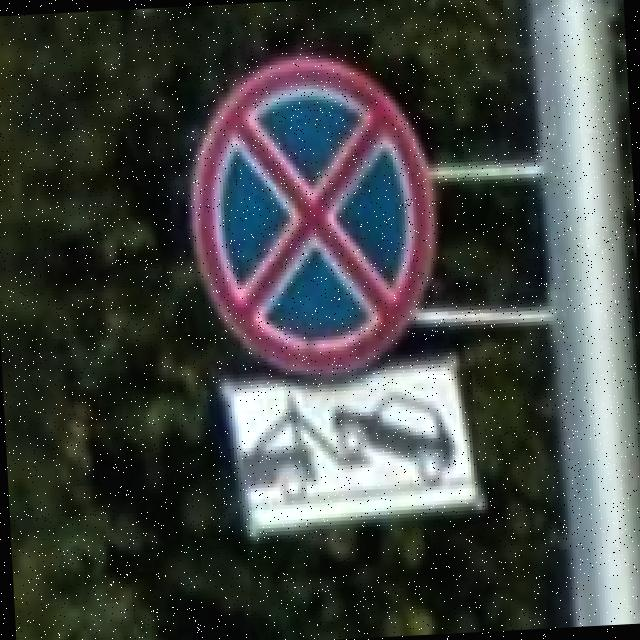Zakaz zatrzymywania sie: (181, 50, 445, 388)
